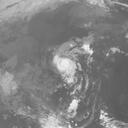cyclone: (46, 48, 89, 96)
